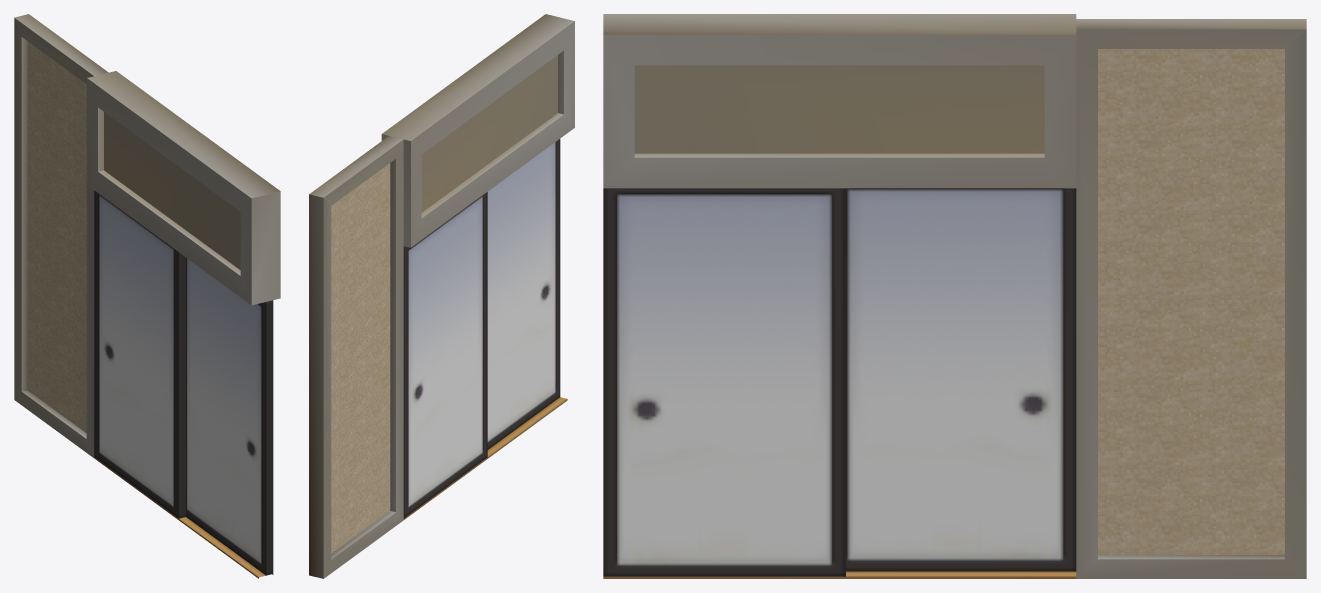
File: husuma_3jyo_01.fbx
3 views of the same model, side by side, from view 1: azimuth 30°, elevation 25°; view 2: azimuth 150°, elevation 25°; view 3: azimuth 270°, elevation 25° (orthographic). The views are drawn at different scales.
Visible parts, largest first — view 1: ranma01, door02, door01; view 2: ranma01, door02, door01; view 3: ranma01, door01, door02.
Part boxes in pixels (box(x1,y1,x2,y2)): ranma01: box(14, 14, 280, 578); door02: box(94, 190, 185, 518); door01: box(186, 258, 273, 575); ranma01: box(309, 14, 574, 578); door02: box(403, 192, 487, 518); door01: box(487, 139, 560, 449); ranma01: box(603, 14, 1306, 578); door01: box(603, 188, 845, 576); door02: box(846, 188, 1076, 571).
Bounding box in the file's own units: 40 × 500 × 580.
